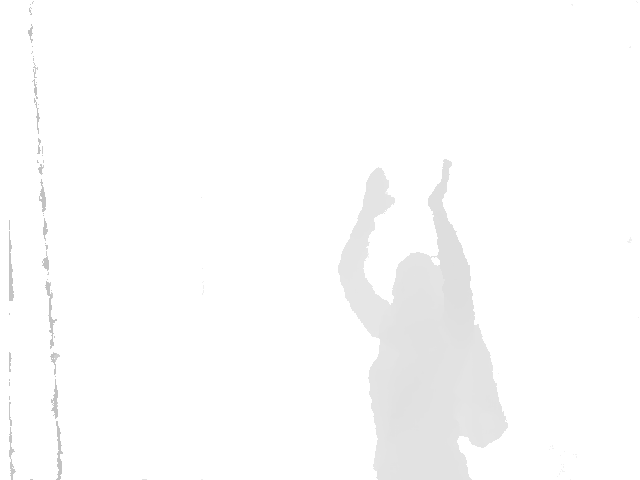hand: (363, 166, 397, 218), (425, 157, 454, 208)
head: (391, 253, 441, 311)
person: (337, 155, 510, 479)
